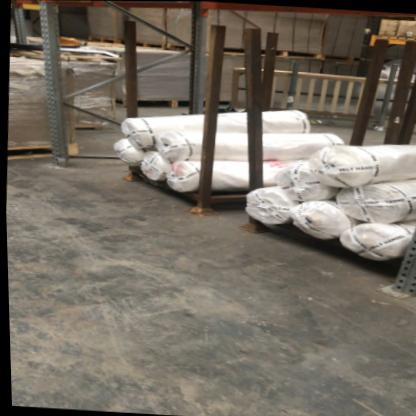vertical_damage: (378, 272, 416, 306), (47, 146, 77, 170)
